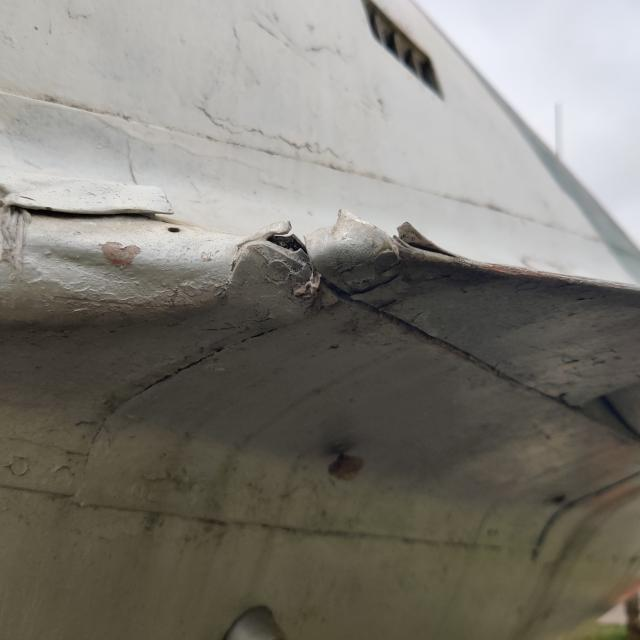crack: (333, 182, 480, 280), (241, 207, 322, 271)
